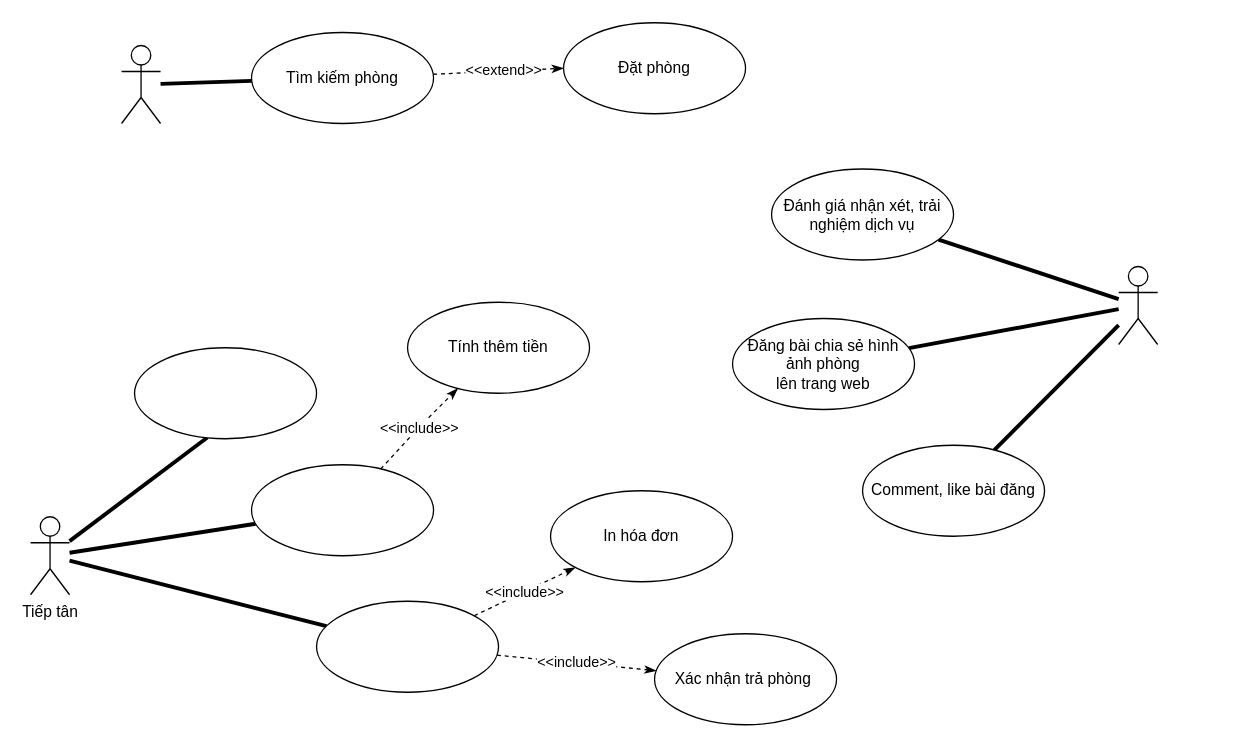
The diagram is 1257 pixels wide and 748 high, and some of its shapes have lost their labels. The shapes that lost their labels are listed below. From the top down, each one's centre as x and y in pixels, then its label:
the point at 140,84: Khách hàng trên nền web
the point at 1137,304: Khách hàng sử dụng phòng
the point at 225,392: Check-in
the point at 342,509: Ghi nhận dịch vụ thêm cho khách hàng
the point at 407,646: Check-out
